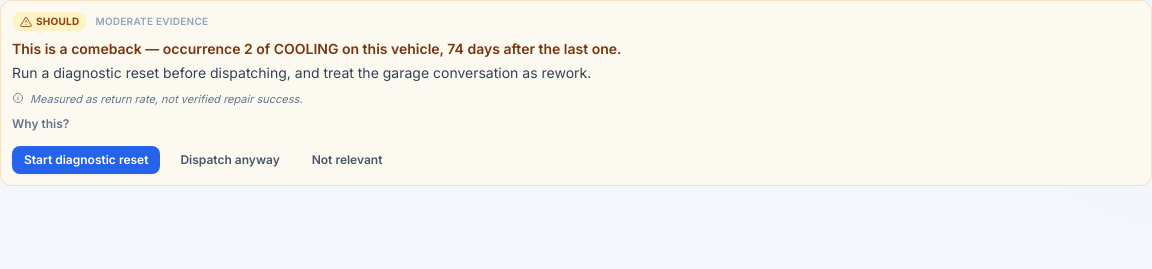
a thin sample is described as anecdote rather than as a rate
Click the button "Why this?": (41, 124) left=12, top=116, right=69, bottom=132
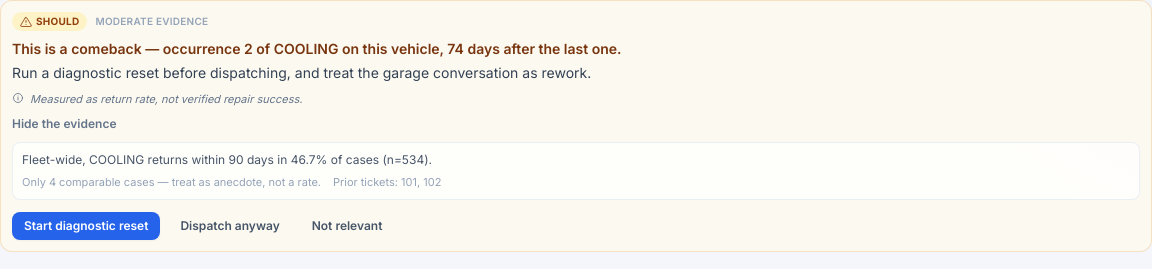
Result: the text "Only 4 comparable cases — treat as anecdote, not a rate." is shown at left=22, top=174, right=321, bottom=190
